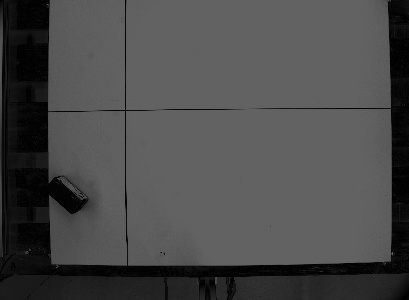b3: (43, 173, 90, 216)
